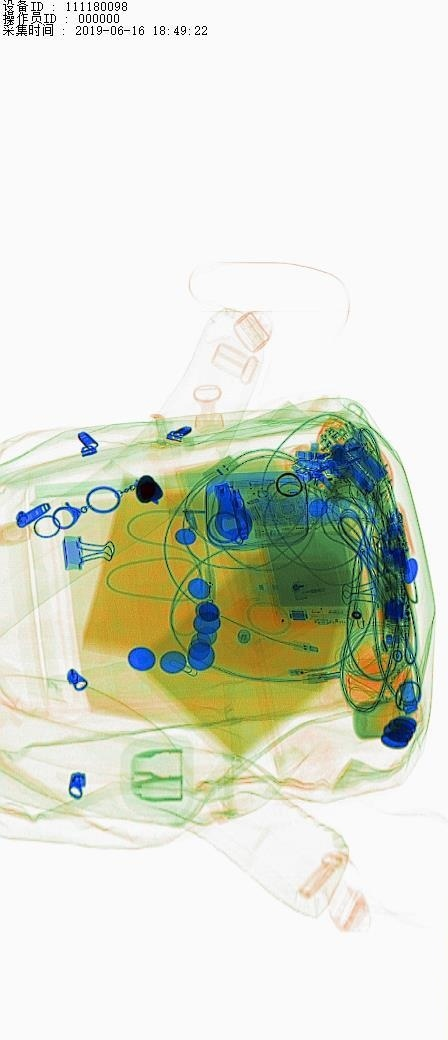NonmetallicFire: (284, 558, 401, 622)
